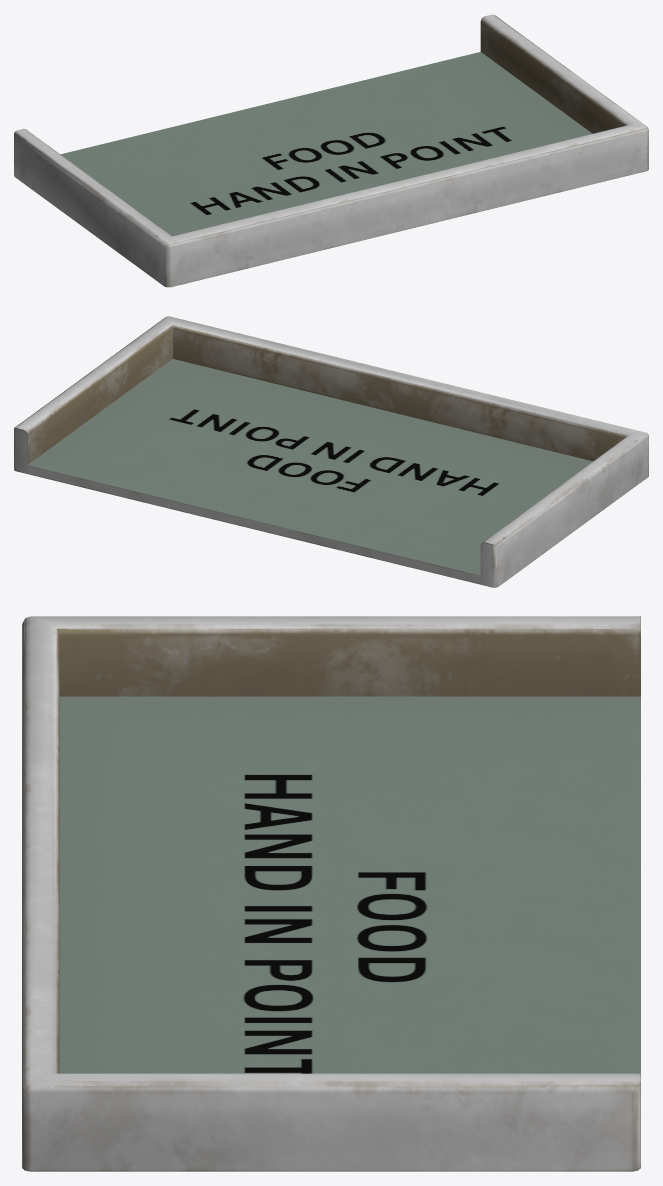
Rendered from HAND IN POINT1.fbx.
3 renders of one model, top to bottom at view 1: azimuth 30°, elevation 25°; view 2: azimuth 150°, elevation 25°; view 3: azimuth 270°, elevation 25°, orthographic. The views are drawn at different scales.
Parts seen in each view (by area): view 1: Cube.018, Cube.017; view 2: Cube.018, Cube.017; view 3: Cube.018, Cube.017.
Boxes of the visible parts, x1,y1,x2,y2 form: Cube.018: [61, 52, 592, 236]; Cube.017: [14, 14, 648, 287]; Cube.018: [28, 359, 592, 575]; Cube.017: [14, 316, 648, 587]; Cube.018: [59, 696, 640, 1073]; Cube.017: [22, 616, 640, 1171].
Bounding box in the file's own units: 200 × 17.11 × 111.
Materials: 2 (2 with a texture image).
